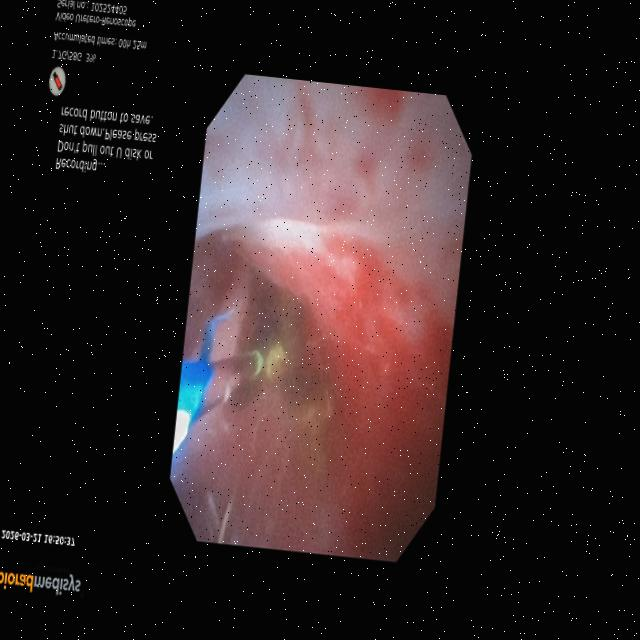laser-fibre: (201, 355, 254, 416)
laser_dot: (269, 349, 282, 370)
stone-new: (231, 274, 331, 431)
